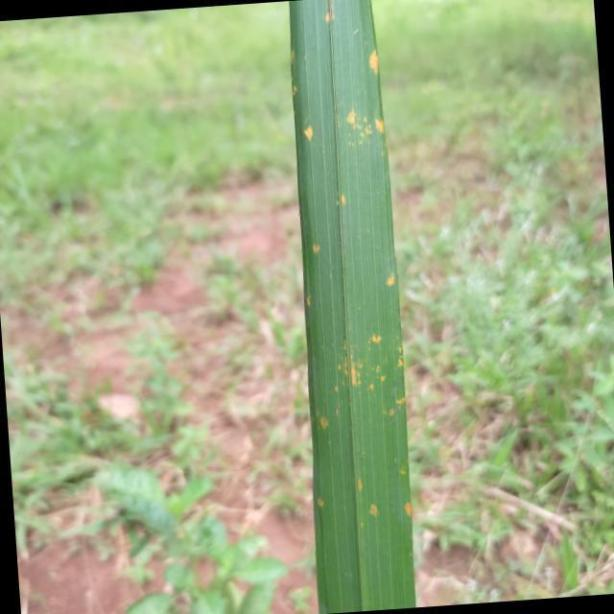Kalium: (290, 0, 418, 614)
